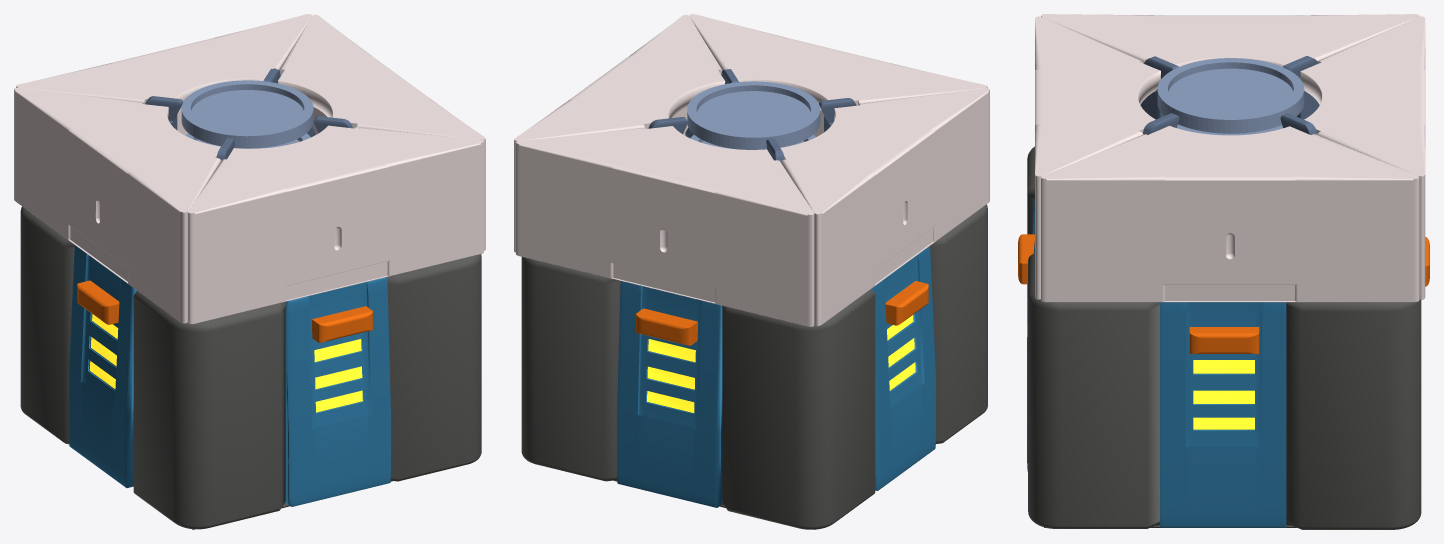
Rendered from lootbox1.glb.
3 renders of one model, left to right at view 1: azimuth 30°, elevation 25°; view 2: azimuth 150°, elevation 25°; view 3: azimuth 270°, elevation 25°, orthographic. The views are drawn at different scales.
Visible parts, largest first — view 1: Lootbox_bottom, Cap3, Cap4, Lootbox_panel, Lootbox_panel.001, Cap1, Cap2, Coin, Lever1, Lever4; view 2: Lootbox_bottom, Cap2, Cap4, Lootbox_panel.003, Cap1, Cap3, Lootbox_panel.001, Coin, Lever3, Lever4; view 3: Lootbox_bottom, Cap1, Lootbox_panel.002, Cap2, Cap3, Cap4, Coin, Lever2, Cube.009, Cube.012, Lever1.
Boxes of the visible parts, box(x1,y1,x2,y2) form: Lootbox_bottom: box(20, 206, 481, 529); Cap3: box(188, 125, 483, 324); Cap4: box(14, 87, 221, 323); Lootbox_panel: box(285, 277, 390, 506); Lootbox_panel.001: box(69, 245, 136, 487); Cap1: box(278, 14, 485, 250); Cap2: box(16, 14, 311, 135); Coin: box(181, 80, 313, 148); Lever1: box(312, 306, 372, 342); Lever4: box(77, 280, 119, 324); Lootbox_bottom: box(521, 204, 987, 529); Cap2: box(516, 126, 814, 326); Cap4: box(780, 88, 989, 326); Lootbox_panel.003: box(617, 281, 722, 507); Cap1: box(514, 14, 725, 252); Cap3: box(689, 14, 987, 136); Lootbox_panel.001: box(872, 246, 935, 490); Coin: box(687, 81, 820, 149); Lever3: box(636, 308, 697, 345); Lever4: box(885, 281, 928, 325); Lootbox_bottom: box(1027, 146, 1421, 529); Cap1: box(1041, 125, 1419, 302); Lootbox_panel.002: box(1160, 302, 1286, 527); Cap2: box(1300, 16, 1425, 299); Cap3: box(1035, 16, 1160, 299); Cap4: box(1041, 14, 1419, 66); Coin: box(1157, 58, 1304, 133); Lever2: box(1189, 327, 1259, 353); Cube.009: box(1140, 56, 1178, 119); Cube.012: box(1283, 56, 1319, 119); Lever1: box(1018, 234, 1034, 284).
Size of what is drawn, in the model's own units: 2.28 by 2.23 by 2.29.
